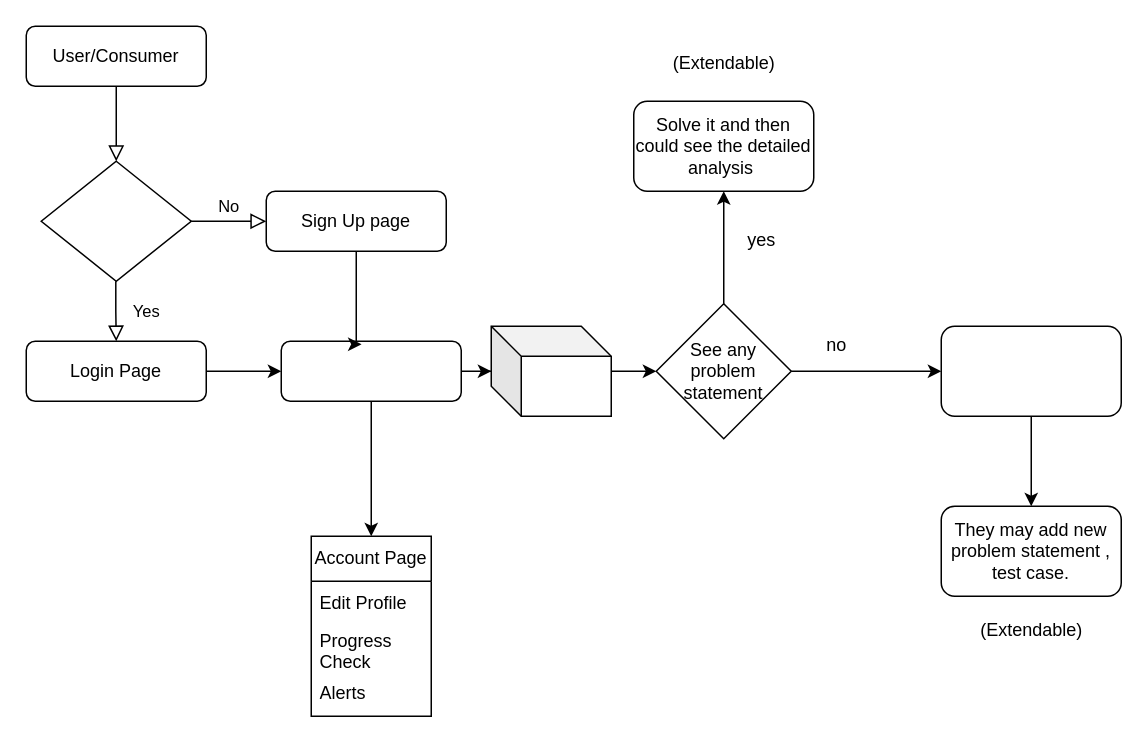
Some shapes in this 1148 by 743 pixel diagram are drawn without their labels. Here are the shapes that lost their labels. From the top down, the box of each, then its label:
(40, 160, 191, 281): Exisiting User
(280, 340, 461, 401): Dashboard
(490, 325, 611, 416): List of problems
(940, 325, 1121, 416): Goes back to dashboard
